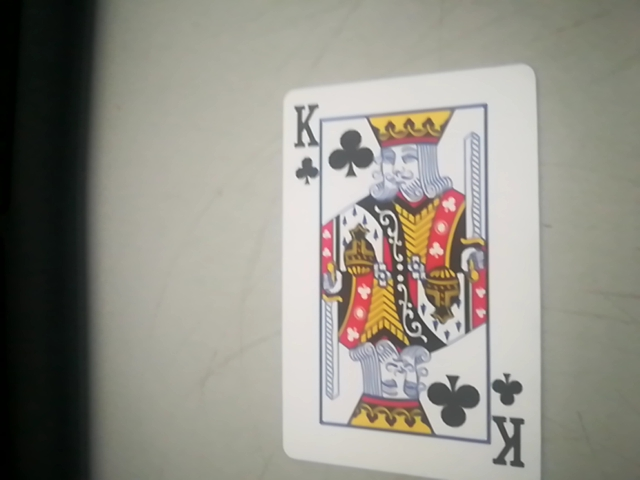mh k: (280, 69, 548, 476)
